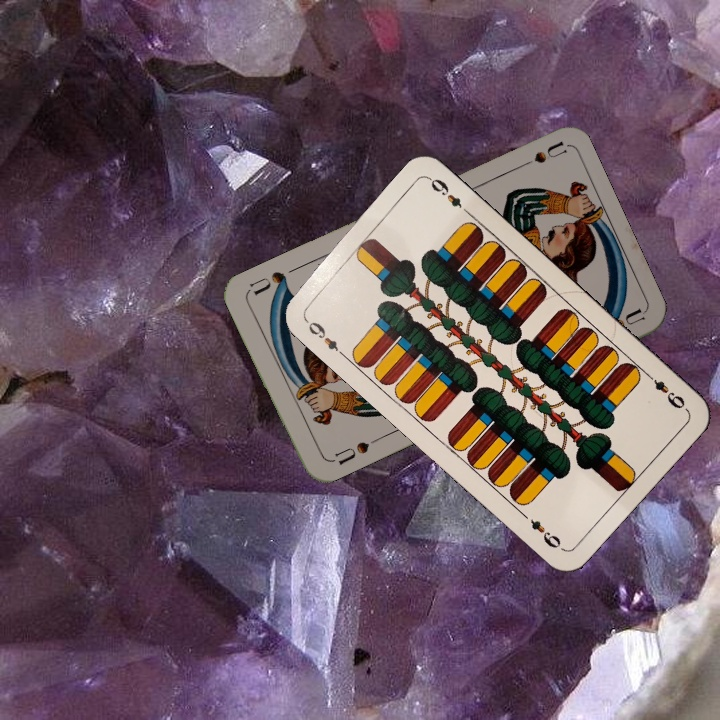E9: (300, 314, 347, 359), (641, 368, 688, 412)
SU: (510, 138, 568, 173), (325, 437, 372, 468)
